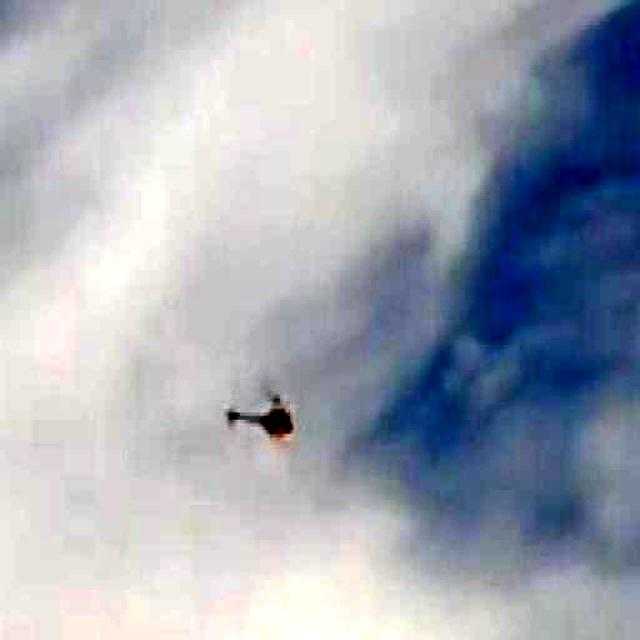drone: (225, 370, 301, 445)
